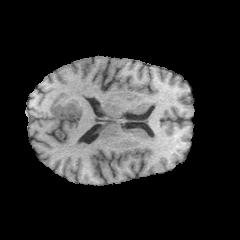glioma: (52, 99, 83, 119)
